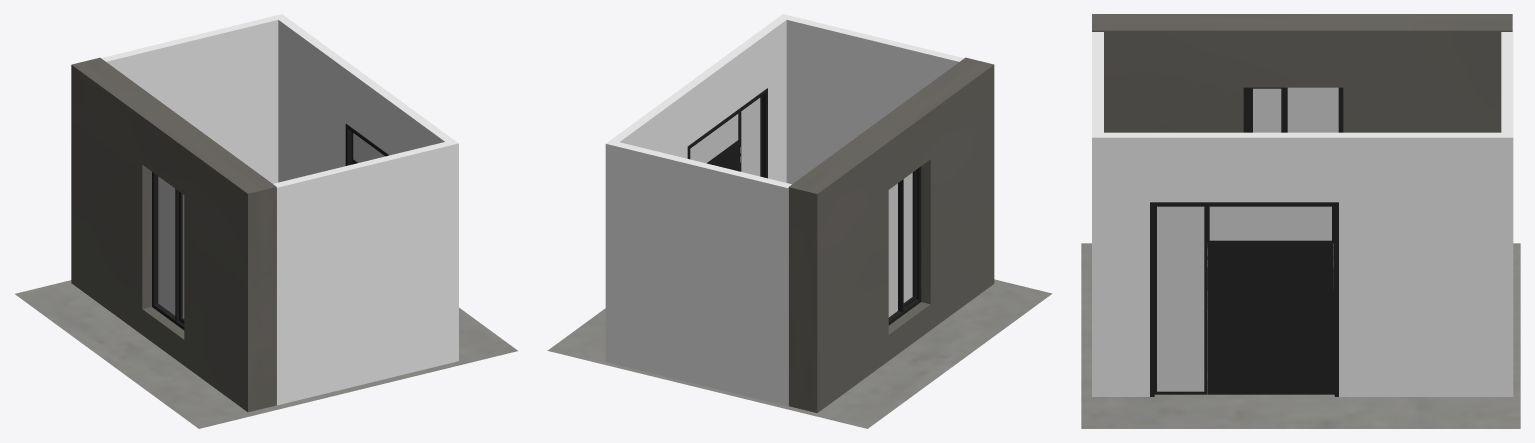
Rendered from SmallRoom.fbx.
3 views of the same model, side by side, from view 1: azimuth 30°, elevation 25°; view 2: azimuth 150°, elevation 25°; view 3: azimuth 270°, elevation 25° (orthographic). The views are drawn at different scales.
Parts seen in each view (by area): view 1: Walls, OuterWall, Floor, Glass.001, OuterFrame.001, Frame.001, UpperGlass.001; view 2: Walls, OuterWall, Floor, Glass.001, OuterFrame.001, SideGlass, UpperGlass.001, OuterFrame.008, Frame.001, Door; view 3: Walls, OuterWall, Door, Floor, SideGlass, UpperGlass.001, Glass.001, OuterFrame.008, SideFrame.001, UpperFrame.001, OuterFrame.001, Frame.001.
Boxes of the visible parts, x1,y1,x2,y2 form: Walls: (101,14,458,405); OuterWall: (71,57,276,412); Floor: (15,280,517,428); Glass.001: (158,176,184,318); OuterFrame.001: (152,172,184,330); Frame.001: (179,191,184,324); UpperGlass.001: (353,133,384,162); Walls: (605,14,963,406); OuterWall: (788,57,994,412); Floor: (547,279,1052,428); Glass.001: (888,172,912,317); OuterFrame.001: (888,166,921,325); SideGlass: (741,98,760,176); UpperGlass.001: (690,114,738,163); OuterFrame.008: (687,88,767,178); Frame.001: (903,170,916,308); Door: (709,141,739,171); Walls: (1092,32,1513,396); OuterWall: (1092,14,1512,290); Door: (1207,243,1332,394); Floor: (1081,243,1520,428); SideGlass: (1157,206,1204,391); UpperGlass.001: (1209,206,1331,240); Glass.001: (1253,87,1338,246); OuterFrame.008: (1150,202,1338,396); SideFrame.001: (1154,206,1206,394); UpperFrame.001: (1207,206,1334,243); OuterFrame.001: (1243,87,1343,248); Frame.001: (1248,87,1284,132).
Size of the model in its own units: 553 by 362 by 553.
